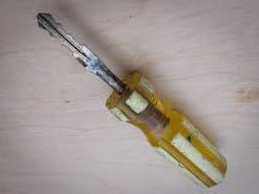Screwdriver: (33, 10, 232, 190)
